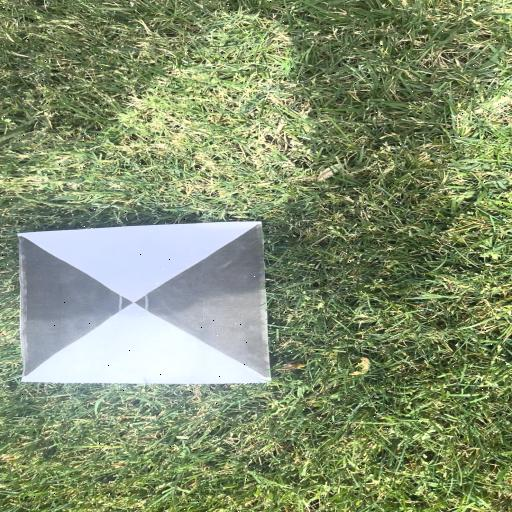target: (20, 233, 272, 382)
